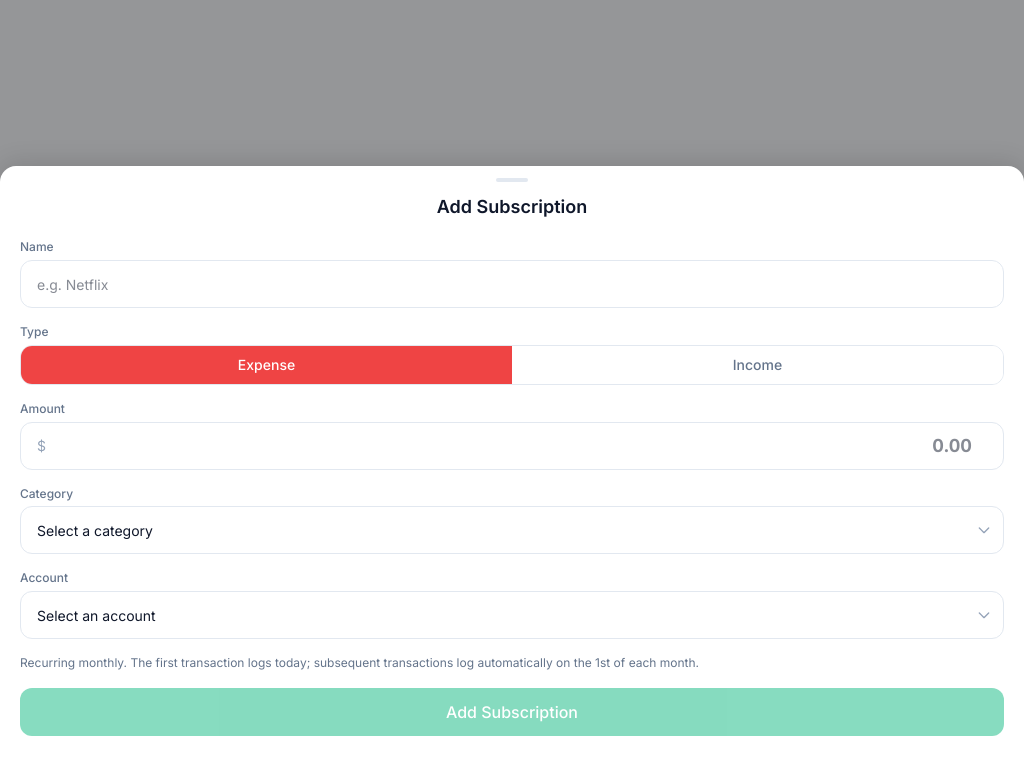
Scenario: AddSubscriptionSheet › shows amount error when blurring with 0 amount
Type "0" into the number field with test id "amount-input" at (526, 446), box [50,423,1003,469]
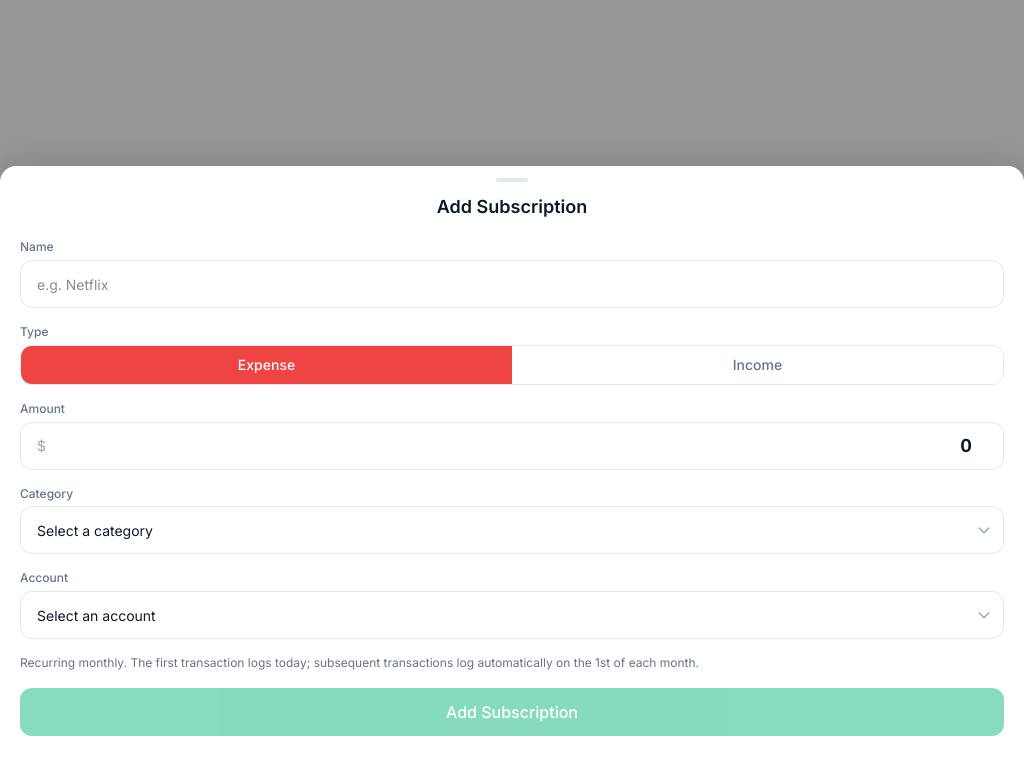
Leave the number field with test id "amount-input", box [50,423,1003,469]
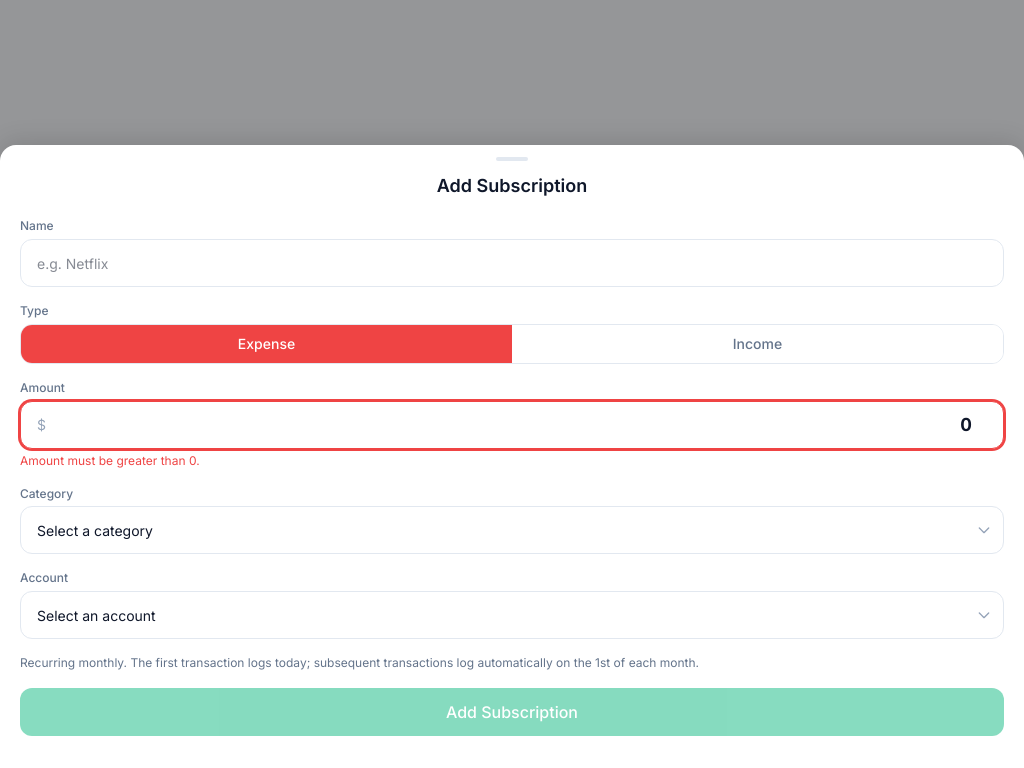
Expected: the text "Amount must be greater than 0." is shown, [20,453,200,468]
